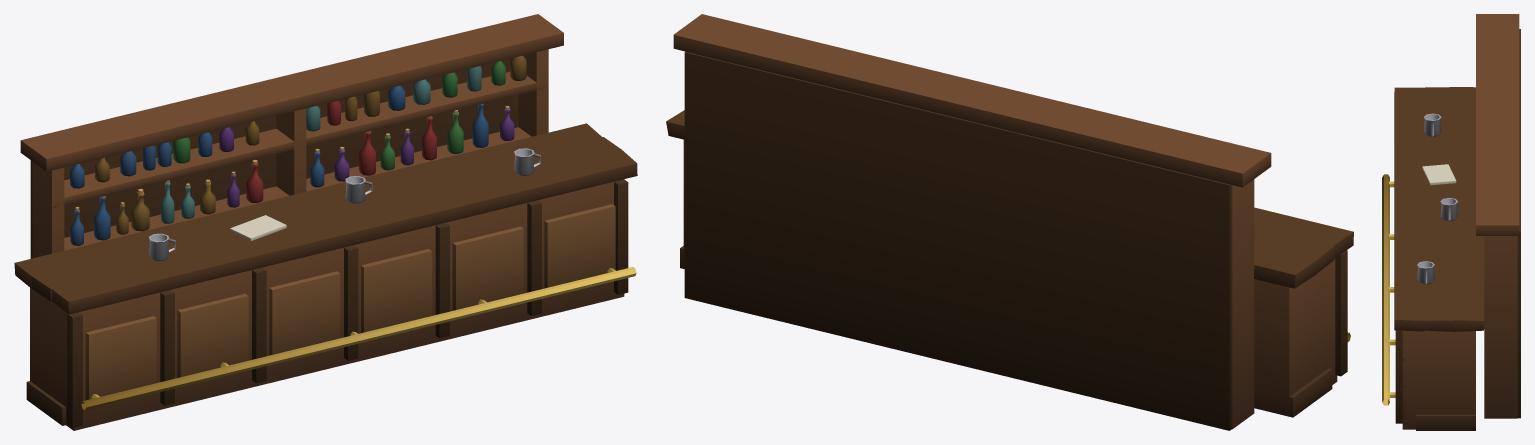
Rendered from bar_counter.glb.
3 renders of one model, left to right at view 1: azimuth 30°, elevation 25°; view 2: azimuth 150°, elevation 25°; view 3: azimuth 270°, elevation 25°, orthographic. The views are drawn at different scales.
Visible parts, largest first — view 1: bar_counter, bar_counter_trim; view 2: bar_counter; view 3: bar_counter, bar_counter_trim.
Boxes of the visible parts, x1,y1,x2,y2 form: bar_counter: (14, 14, 637, 430); bar_counter_trim: (70, 55, 636, 410); bar_counter: (666, 14, 1353, 430); bar_counter: (1394, 14, 1520, 430); bar_counter_trim: (1382, 113, 1457, 405).
Size of the model in its own units: 1.67 by 0.655 by 0.417.
